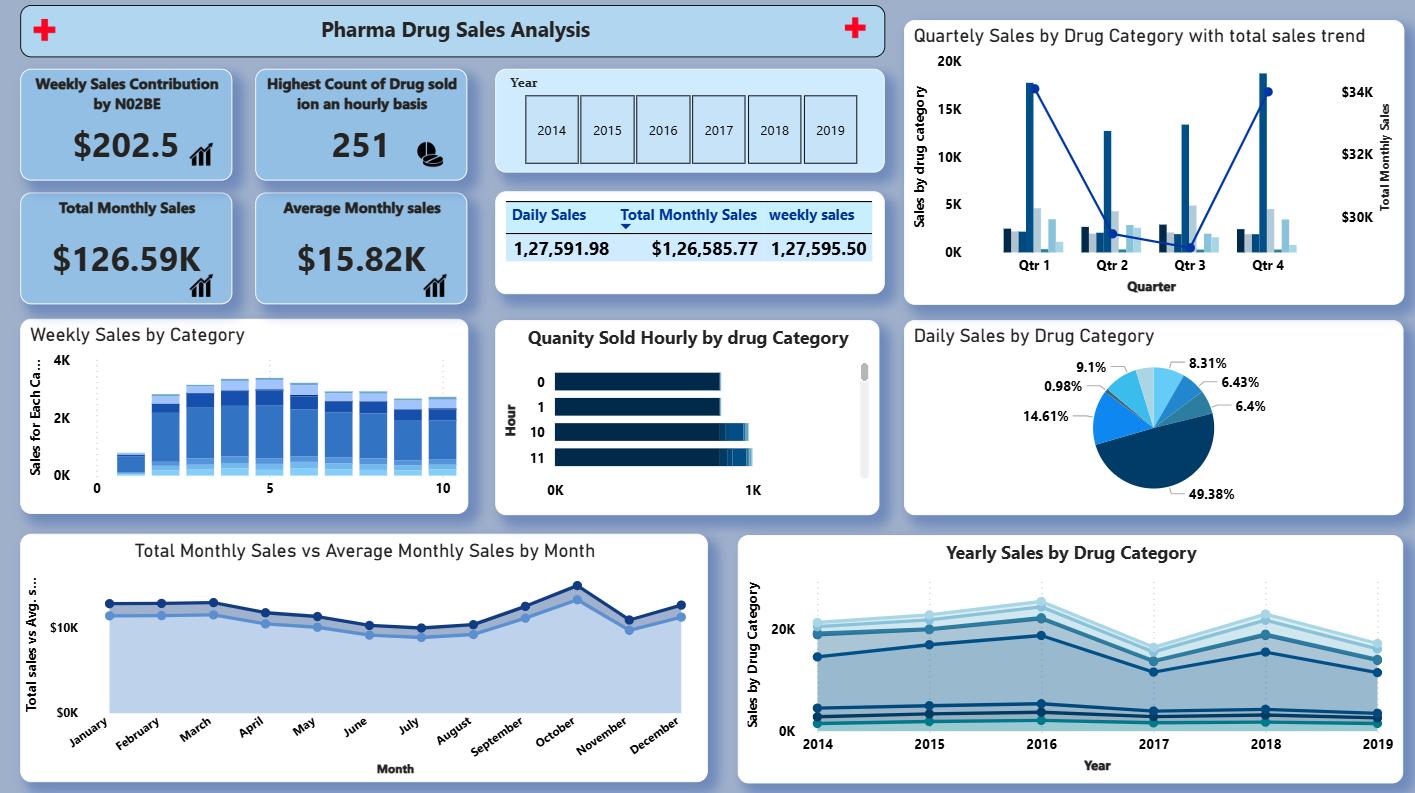

The dashboard page shown, as its layout file describes it:
{"tool":"powerbi","page":{"name":"Dashboard","canvas":[1280,720],"ordinal":0},"visuals":[{"type":"textbox","box":[19,9,780,47],"z":0},{"type":"columnChart","title":"Weekly Sales by Category","fields":{"Category":["Sales Weekly.Week Num"],"Y":["Sum(Sales Weekly.M01AB)","Sum(Sales Weekly.M01AE)","Sum(Sales Weekly.N02BA)","Sum(Sales Weekly.N02BE)","Sum(Sales Weekly.N05B)","Sum(Sales Weekly.N05C)","Sum(Sales Weekly.R03)","Sum(Sales Weekly.R06)"]},"box":[19.2,292.3,403.8,175.6],"z":1000},{"type":"stackedAreaChart","title":"Total Monthly Sales vs Average Monthly Sales by Month","fields":{"Category":["Sales Monthly.Date.Variation.Date Hierarchy.Month"],"Y":["Sales Monthly.Total Monthly Sales","Sales Monthly.Average Monthly Sales"]},"box":[18.8,486.2,620,223.8],"z":2000},{"type":"barChart","title":"Quanity Sold Hourly by drug Category","fields":{"Category":["Sales Hourly.Hour"],"Y":["CountNonNull(Sales Hourly.M01AB)","Count(Sales Hourly.M01AE)","Count(Sales Hourly.N02BA)","Count(Sales Hourly.N02BE)","Count(Sales Hourly.N05B)","Count(Sales Hourly.N05C)","Count(Sales Hourly.R03)","Count(Sales Hourly.R06)"]},"box":[447.5,292.5,346.2,176.2],"z":3000},{"type":"pieChart","title":"Daily Sales by Drug Category","fields":{"Y":["Sum(Sales Daily.M01AB)","Sum(Sales Daily.M01AE)","Sum(Sales Daily.N02BA)","Sum(Sales Daily.N02BE)","Sum(Sales Daily.N05B)","Sum(Sales Daily.N05C)","Sum(Sales Daily.R03)","Sum(Sales Daily.R06)"]},"box":[815.7,292.8,450.6,175.9],"z":4000},{"type":"stackedAreaChart","title":"Yearly Sales by Drug Category","fields":{"Category":["Sales Monthly.Date.Variation.Date Hierarchy.Year"],"Y":["Sum(Sales Monthly.M01AB)","Sum(Sales Monthly.M01AE)","Sum(Sales Monthly.N02BA)","Sum(Sales Monthly.N02BE)","Sum(Sales Monthly.N05B)","Sum(Sales Monthly.N05C)","Sum(Sales Monthly.R03)","Sum(Sales Monthly.R06)"]},"box":[666.3,486.7,600,224.1],"z":5000},{"type":"lineClusteredColumnComboChart","title":"Quartely Sales by Drug Category with total sales trend","fields":{"Category":["Sales Monthly.Date.Variation.Date Hierarchy.Quarter"],"Y":["Sum(Sales Monthly.M01AB)","Sum(Sales Monthly.M01AE)","Sum(Sales Monthly.N02BA)","Sum(Sales Monthly.N02BE)","Sum(Sales Monthly.N05B)","Sum(Sales Monthly.N05C)","Sum(Sales Monthly.R03)","Sum(Sales Monthly.R06)"],"Y2":["Sales Monthly.Total Monthly Sales"]},"box":[815.6,22,451.2,256.8],"z":6000},{"type":"card","title":"Total Monthly Sales","fields":{"Values":["Sales Monthly.Total Monthly Sales"]},"box":[18.9,177.8,191.1,101.1],"z":7000},{"type":"card","title":"Average Monthly sales","fields":{"Values":["Sales Monthly.Average Monthly Sales"]},"box":[231.1,177.8,191.1,101.1],"z":8000},{"type":"card","title":"Highest Count of Drug sold ion an hourly basis","fields":{"Values":["Count(Sales Hourly.N02BE)"]},"box":[231.1,66.7,191.1,101.1],"z":9000},{"type":"card","title":"Weekly Sales Contribution by N02BE","fields":{"Values":["Sales Weekly.weekly sales contribution by N02BE"]},"box":[18.9,66.7,191.1,101.1],"z":10000},{"type":"tableEx","fields":{"Values":["Sales Daily.Daily Sales","Sales Monthly.Total Monthly Sales","Sales Weekly.weekly sales"]},"box":[447.5,177.5,351.2,92.5],"z":11000},{"type":"slicer","fields":{"Values":["Sales Monthly.Date.Variation.Date Hierarchy.Year"]},"box":[447.5,66.2,351.2,93.8],"z":12000},{"type":"image","box":[365.6,127.8,47.8,33.3],"z":13000},{"type":"image","box":[162.2,127.8,40,33.3],"z":14000},{"type":"image","box":[162.2,245.6,40,33.3],"z":15000},{"type":"image","box":[373.3,245.6,40,33.3],"z":16000},{"type":"image","box":[745,9,54,42],"z":17000},{"type":"image","box":[18.5,10.1,47,43.7],"z":18000}]}

Visuals, with their boxes in screenshot pixels (x1, y1, x2, y2), scaled from the page's 1280x720 canvas onto the 1415x793 screenshot:
textbox: (21, 10, 883, 62)
"Weekly Sales by Category" columnChart: (21, 322, 468, 515)
"Total Monthly Sales vs Average Monthly Sales by Month" stackedAreaChart: (21, 535, 706, 782)
"Quanity Sold Hourly by drug Category" barChart: (495, 322, 877, 516)
"Daily Sales by Drug Category" pieChart: (902, 322, 1400, 516)
"Yearly Sales by Drug Category" stackedAreaChart: (737, 536, 1400, 783)
"Quartely Sales by Drug Category with total sales trend" lineClusteredColumnComboChart: (902, 24, 1400, 307)
"Total Monthly Sales" card: (21, 196, 232, 307)
"Average Monthly sales" card: (255, 196, 467, 307)
"Highest Count of Drug sold ion an hourly basis" card: (255, 73, 467, 185)
"Weekly Sales Contribution by N02BE" card: (21, 73, 232, 185)
tableEx - Sales Daily.Daily Sales x Sales Monthly.Total Monthly Sales: (495, 195, 883, 297)
slicer - Sales Monthly.Date.Variation.Date Hierarchy.Year: (495, 73, 883, 176)
image: (404, 141, 457, 177)
image: (179, 141, 224, 177)
image: (179, 271, 224, 307)
image: (413, 271, 457, 307)
image: (824, 10, 883, 56)
image: (20, 11, 72, 59)
